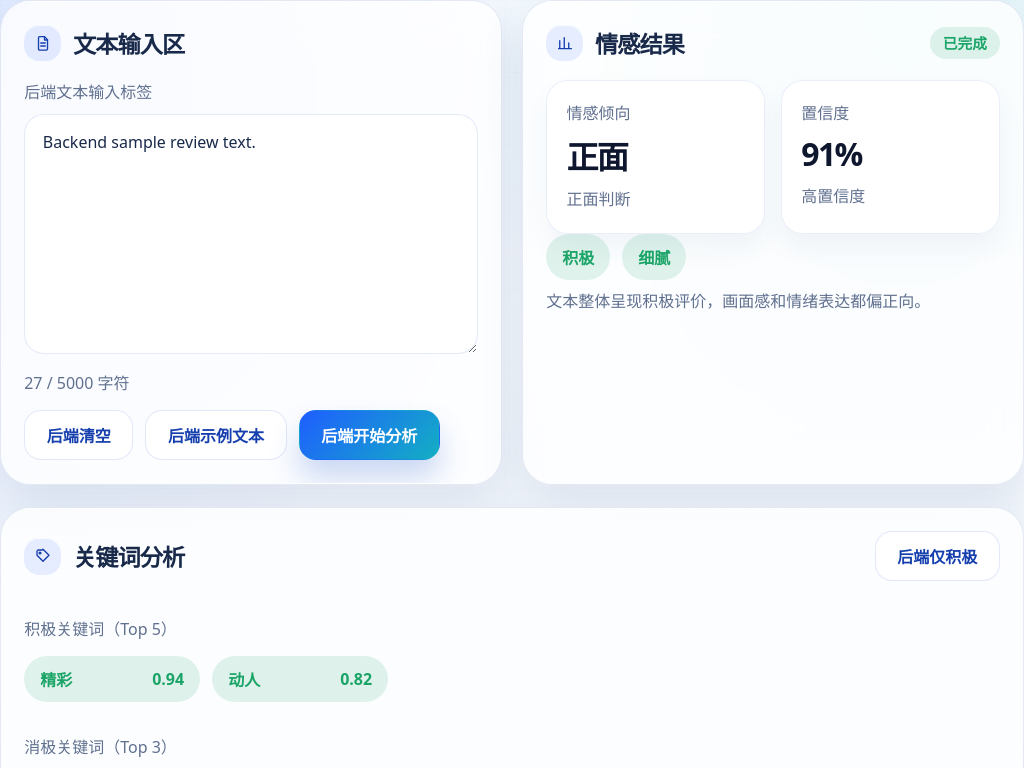
Test: SentimentAnalysisPage › loads the default sample, supports re-analysis, and filters negative keywords
The image size is (1024, 768).
Expected: the text "正面判断" is shown, [566,188,630,210]
Expected: the text "精彩" is shown, [40,667,72,691]
Replace the text in the text box with "This sequel is a flop and feels copied.": (251, 234) [24,114,478,354]
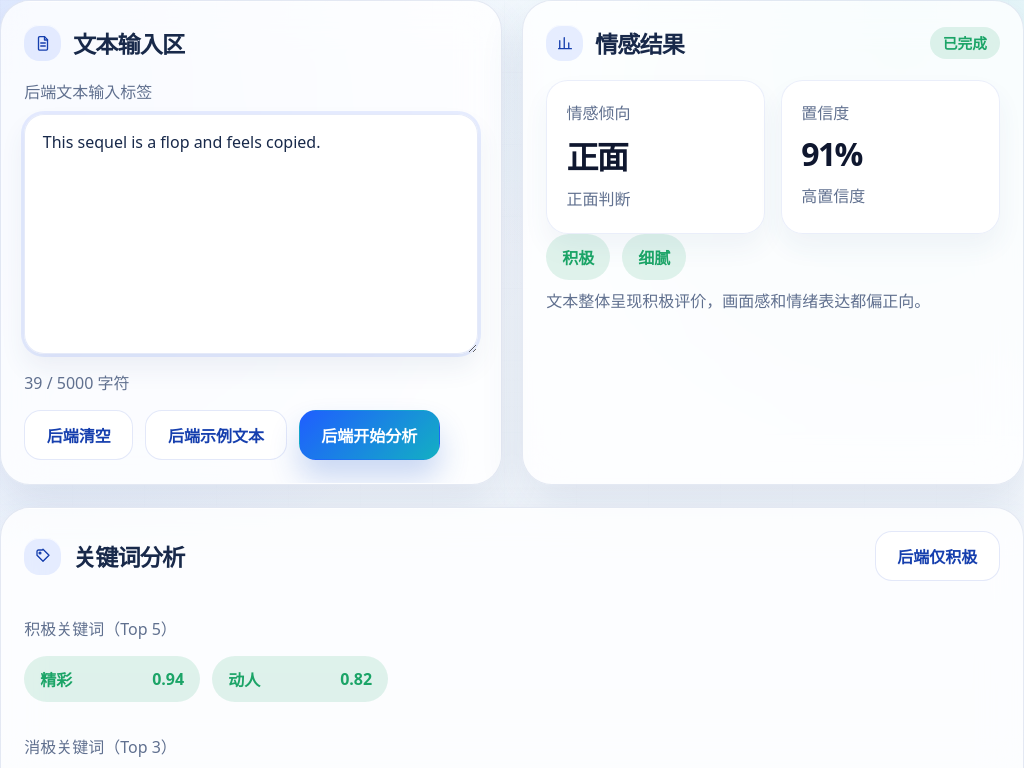
Click the button "后端开始分析": (369, 435) [299,410,440,460]
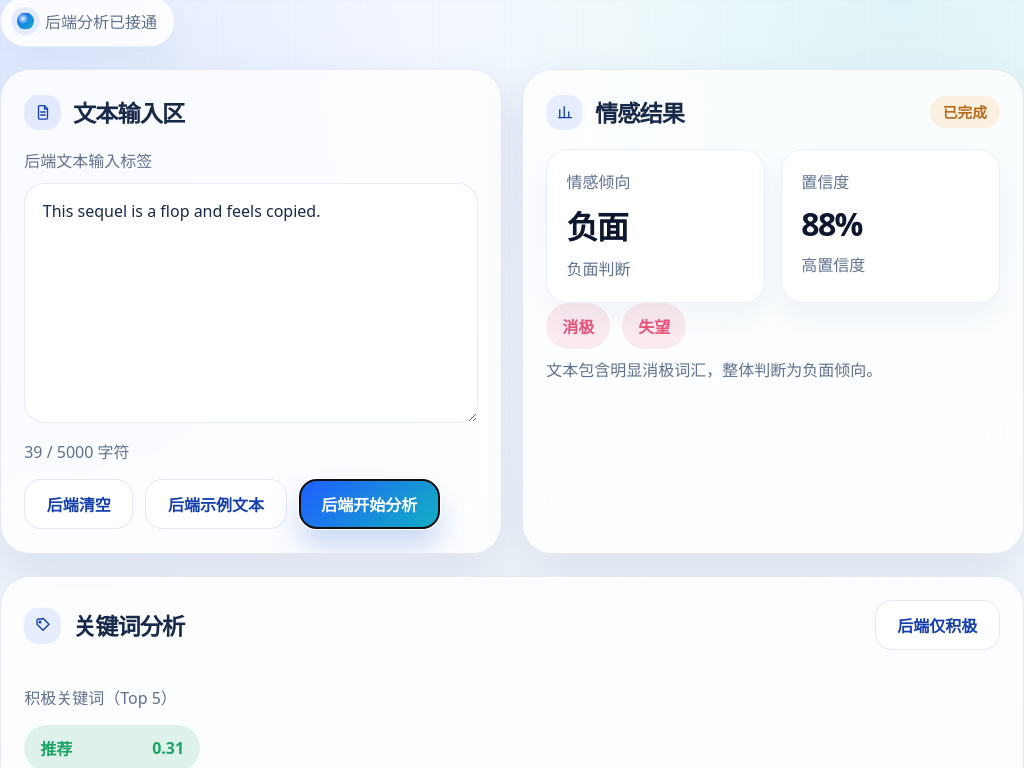
Result: the text "负面判断" is shown at [566,258,630,280]
Click the button "后端仅积极": (937, 626) [875,600,1000,651]
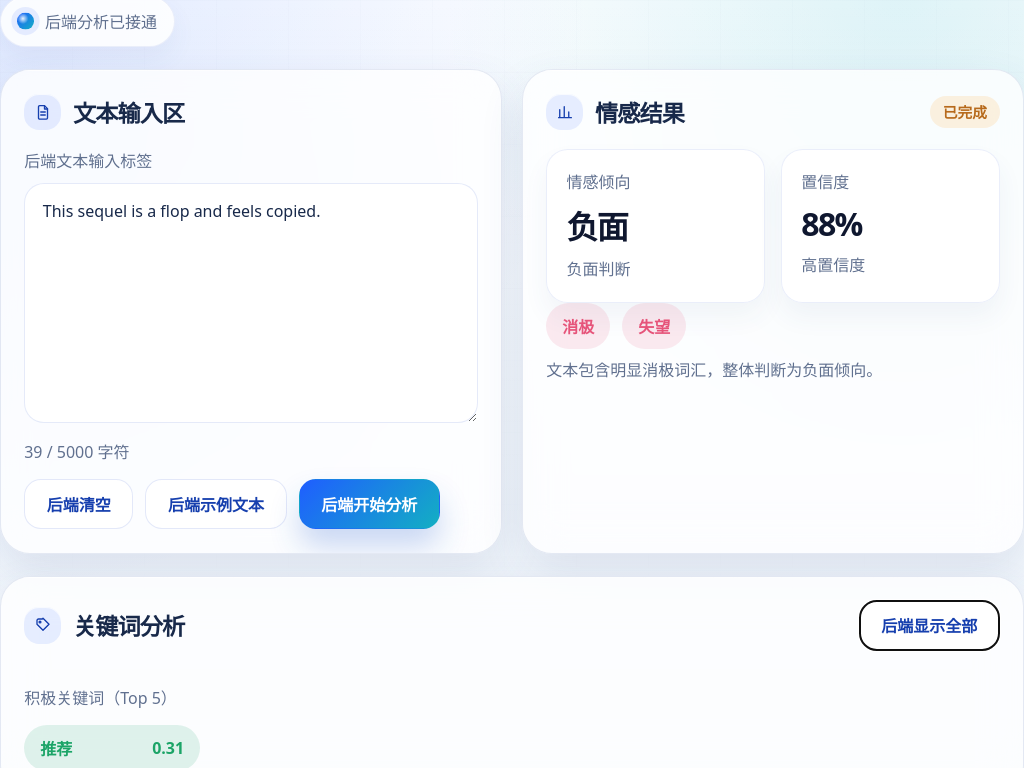
Result: the button "后端显示全部" is shown at [859,600,1000,651]
